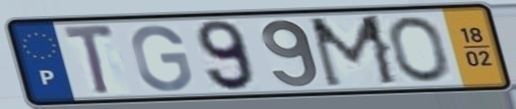9: (194, 18, 258, 93), (259, 18, 323, 90)
G: (128, 23, 196, 94)
M: (305, 13, 403, 91)
O: (385, 14, 453, 84)
T: (59, 22, 118, 99)
